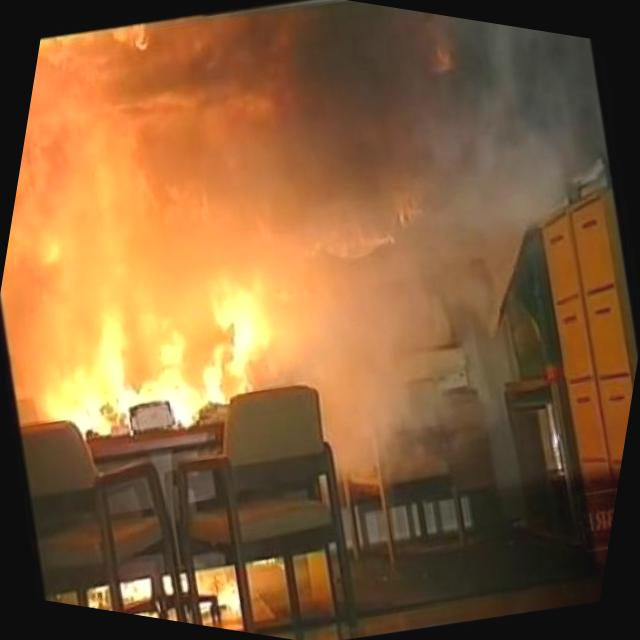fire: (0, 110, 336, 481)
smoke: (294, 0, 640, 300)
